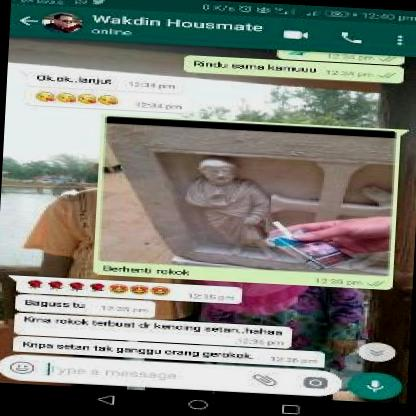objects: (264, 221, 353, 270), (271, 221, 293, 240)
